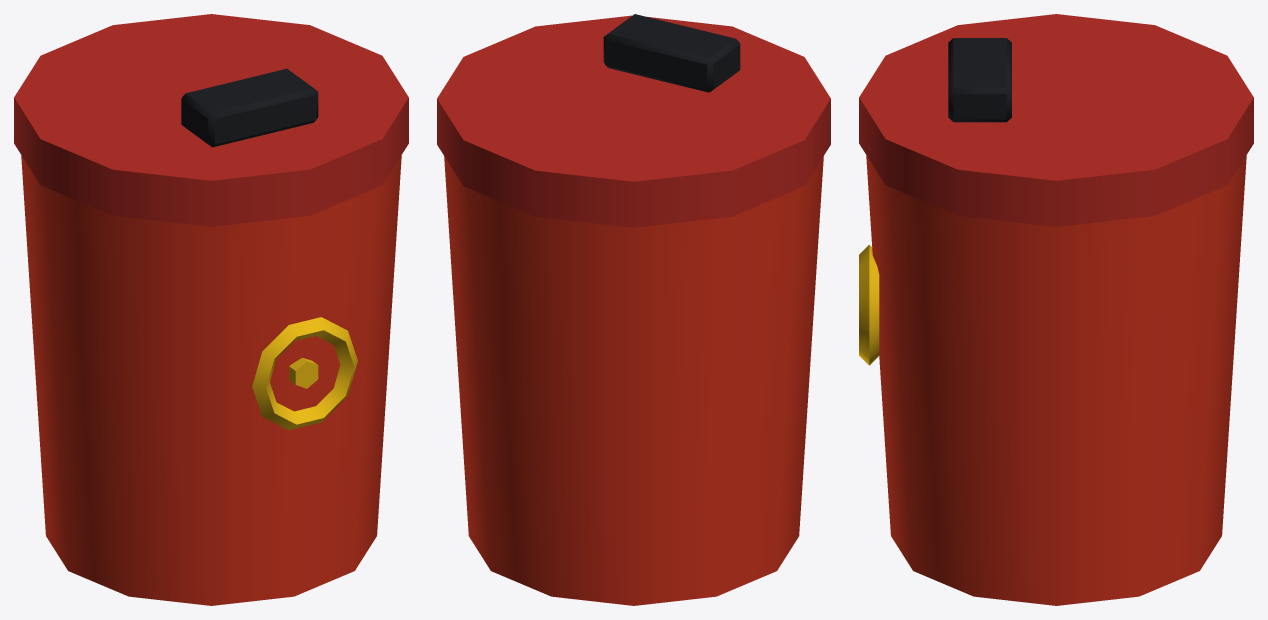
File: medtool_biohazard_bin.glb
3 views of the same model, side by side, from view 1: azimuth 30°, elevation 25°; view 2: azimuth 150°, elevation 25°; view 3: azimuth 270°, elevation 25° (orthographic).
Visible parts, largest first — view 1: medtool_biohazard_bin; view 2: medtool_biohazard_bin; view 3: medtool_biohazard_bin.
Boxes of the visible parts, x1,y1,x2,y2 form: medtool_biohazard_bin: (14, 14, 408, 605); medtool_biohazard_bin: (437, 14, 830, 605); medtool_biohazard_bin: (859, 14, 1253, 605).
Size of the model in its own units: 0.31 by 0.41 by 0.31.
